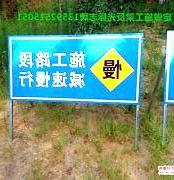sign: (8, 36, 140, 103)
